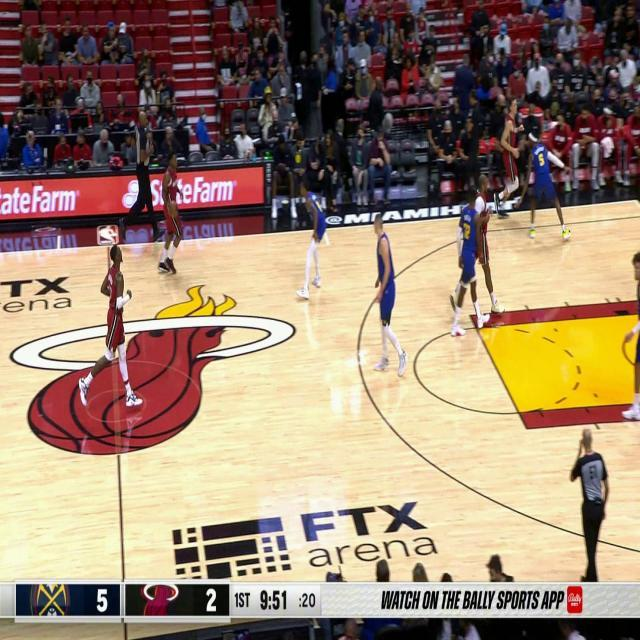rim: (168, 200, 178, 216)
